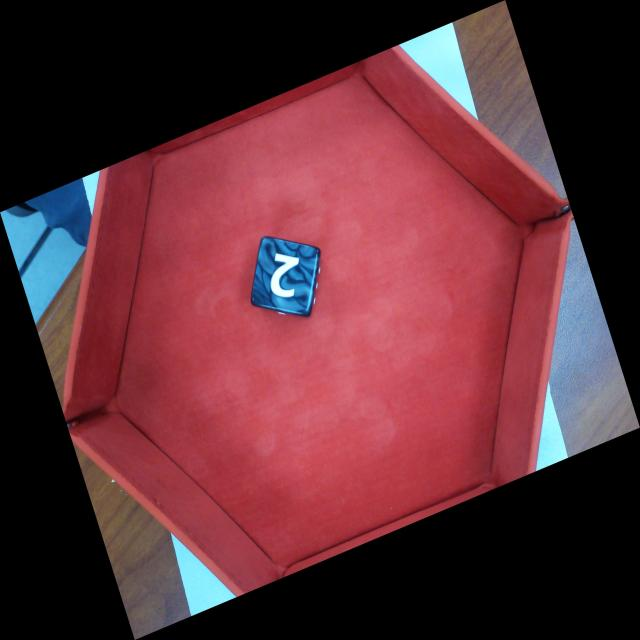dice: (250, 235, 317, 314)
